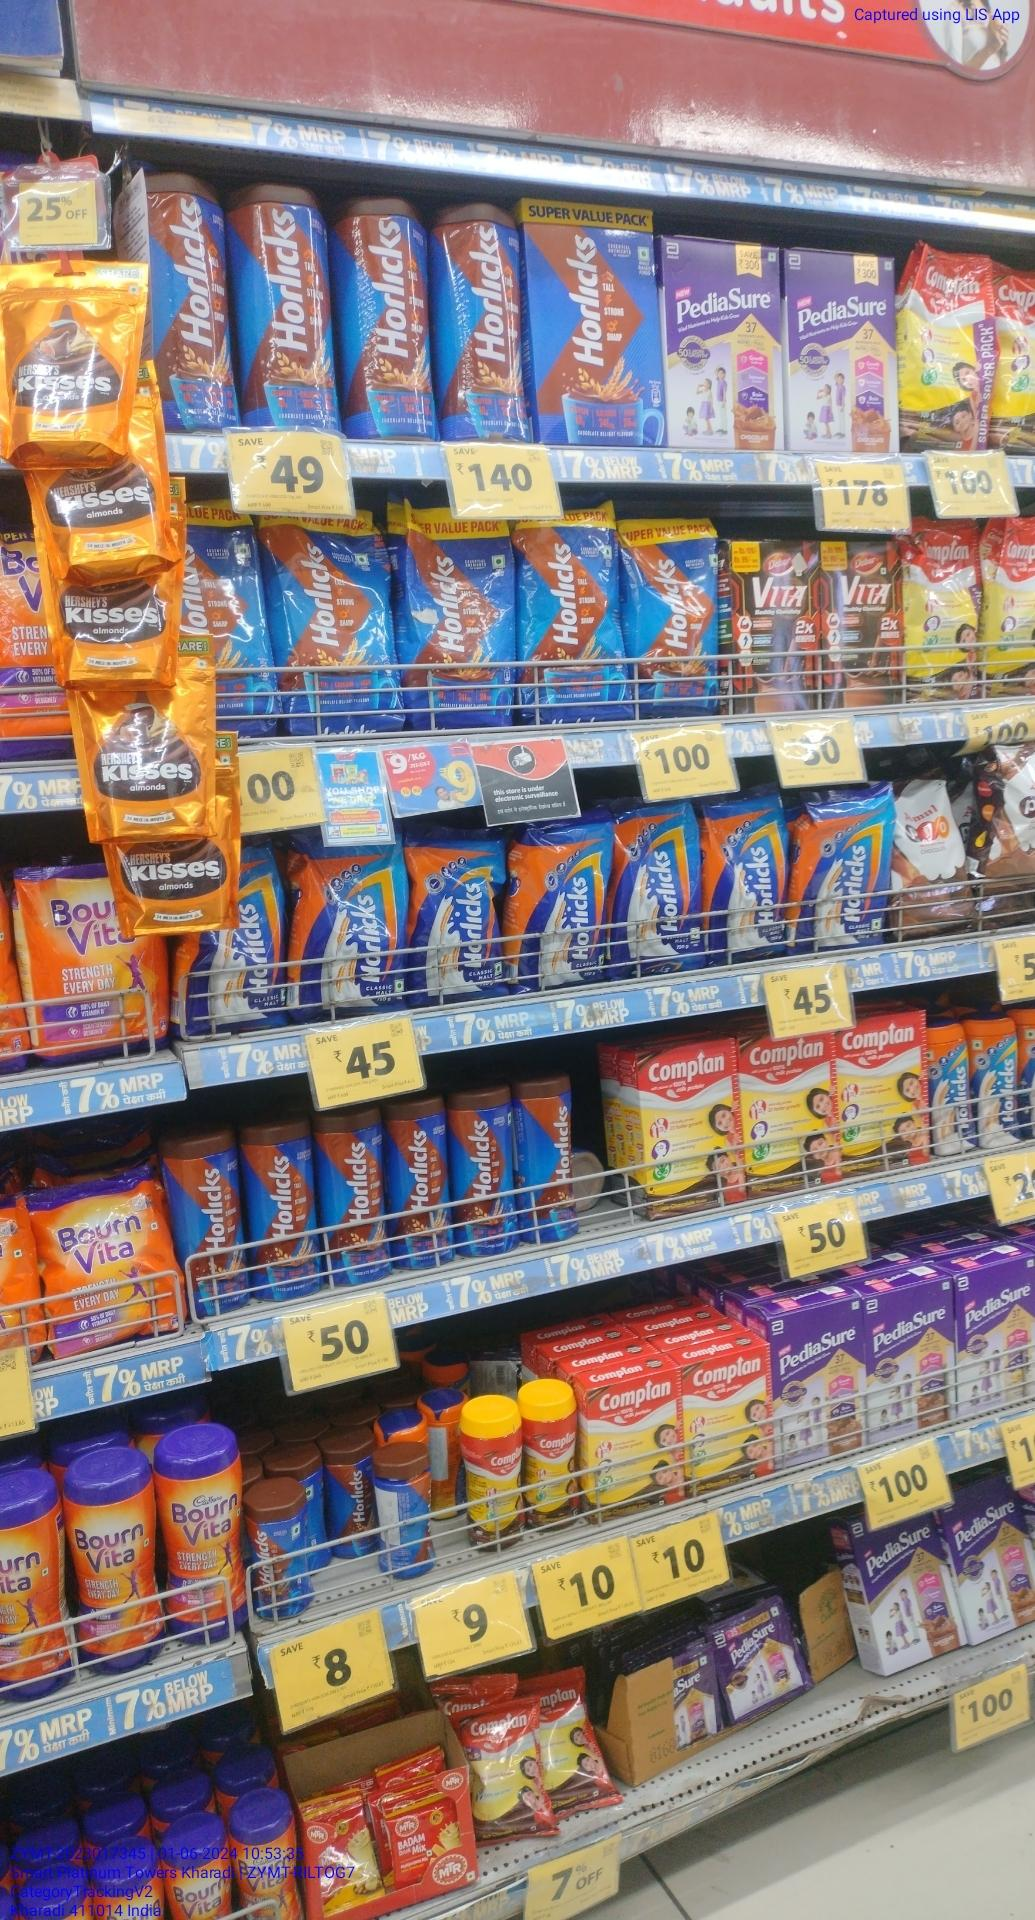BOURN_VITA_200_G_JAR: (233, 1812, 300, 1920)
BOURN_VITA_500_G_JAR: (71, 1469, 156, 1677), (163, 1447, 242, 1646), (1, 1488, 64, 1702)
BOURN_VITA_500_G_POUCH: (40, 1177, 176, 1348)
BOURN_VITA_750_G_POUCH: (28, 869, 168, 1061)
COMPLAN_CHOCOLATE_200_GMS_JAR: (468, 1413, 525, 1549), (528, 1391, 577, 1535)
COMPLAN_CHOCOLATE_500_GMS_PACK: (639, 1047, 735, 1219), (739, 1035, 835, 1193), (586, 1377, 679, 1528), (840, 1021, 927, 1177), (682, 1359, 770, 1496)
COMPLAN_RC_POUCH_700_GMS_12: (905, 243, 997, 451), (906, 520, 980, 703), (984, 521, 1035, 697)
HORLICK_CHOCOLATE_1_KG_JAR: (237, 182, 330, 432), (337, 195, 428, 441), (147, 166, 229, 432), (435, 204, 524, 445)
HORLICK_CHOCOLATE_1_KG_PACK: (529, 201, 658, 445)
HORLICK_CHOCOLATE_200_G_JAR: (247, 1498, 303, 1617), (329, 1444, 377, 1561)
HORLICK_CHOCOLATE_500_G_JAR: (319, 1108, 386, 1291), (178, 1134, 242, 1324), (247, 1122, 310, 1305), (455, 1087, 519, 1257), (391, 1093, 451, 1273), (521, 1073, 577, 1246)
HORLICK_CHOCOLATE_750_G_POUCH: (277, 512, 396, 734), (405, 502, 517, 727), (519, 520, 625, 721), (182, 503, 271, 734), (627, 519, 718, 717)
HORLICK_CLASSIC_MALT_500_G_JAR: (976, 1009, 1024, 1152), (930, 1017, 975, 1161)
HORLICK_CLASSIC_MALT_750_G_POUCH: (293, 837, 405, 1015), (794, 792, 894, 953), (414, 829, 505, 1005), (519, 820, 608, 987), (616, 812, 702, 980), (709, 803, 785, 967)
PEDIASURE_CHOCOLATE_500_G_PACK: (665, 240, 781, 448), (786, 250, 895, 452), (771, 1310, 865, 1469), (864, 1289, 955, 1444), (859, 1522, 950, 1663), (952, 1482, 1035, 1635)
PEDIASURE_VANILLA_500_G_PACK: (959, 1266, 1035, 1417)
